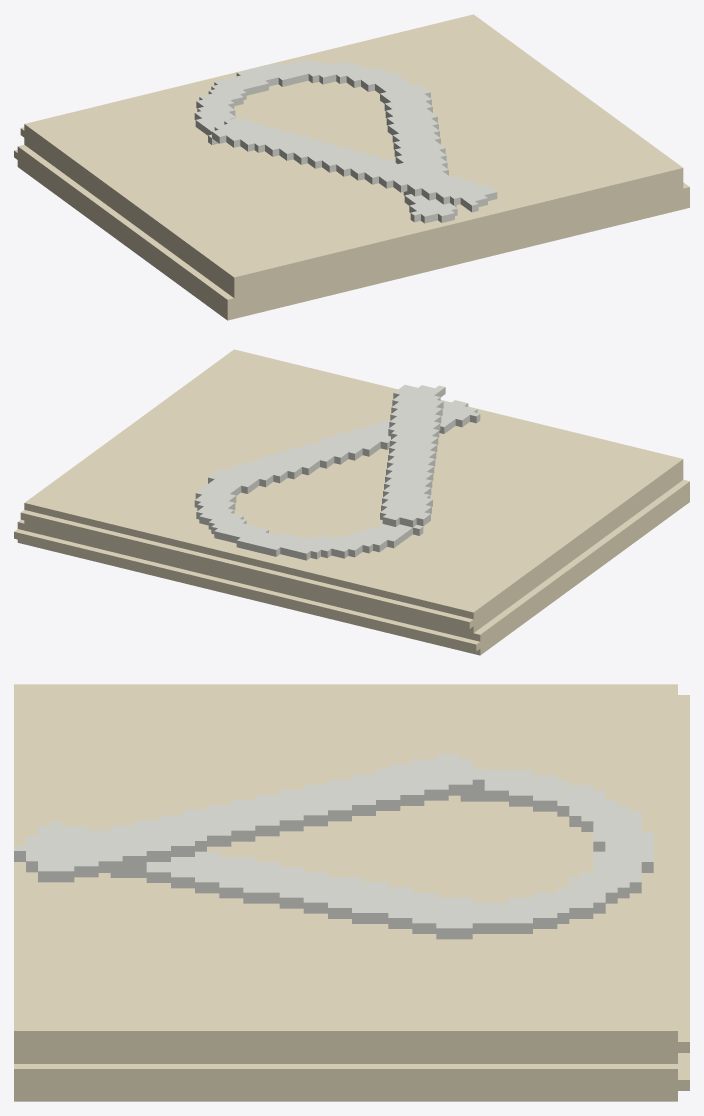
File: keikogi.glb
3 renders of one model, top to bottom at view 1: azimuth 30°, elevation 25°; view 2: azimuth 150°, elevation 25°; view 3: azimuth 270°, elevation 25°, orthographic. The views are drawn at different scales.
Parts seen in each view (by area): view 1: keikogi:compound; view 2: keikogi:compound; view 3: keikogi:compound.
Part boxes in pixels (<box>): keikogi:compound: <box>14,14,689,320</box>; keikogi:compound: <box>14,349,689,655</box>; keikogi:compound: <box>14,684,689,1101</box>.
Size of the model in its own units: 0.28 by 0.032 by 0.224.
